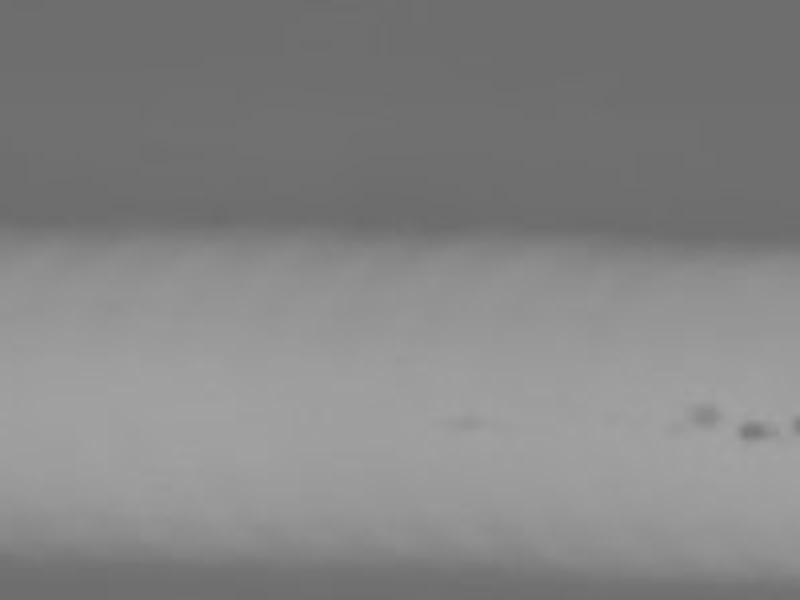defect: (689, 401, 719, 430), (735, 421, 774, 442), (446, 413, 485, 431)
